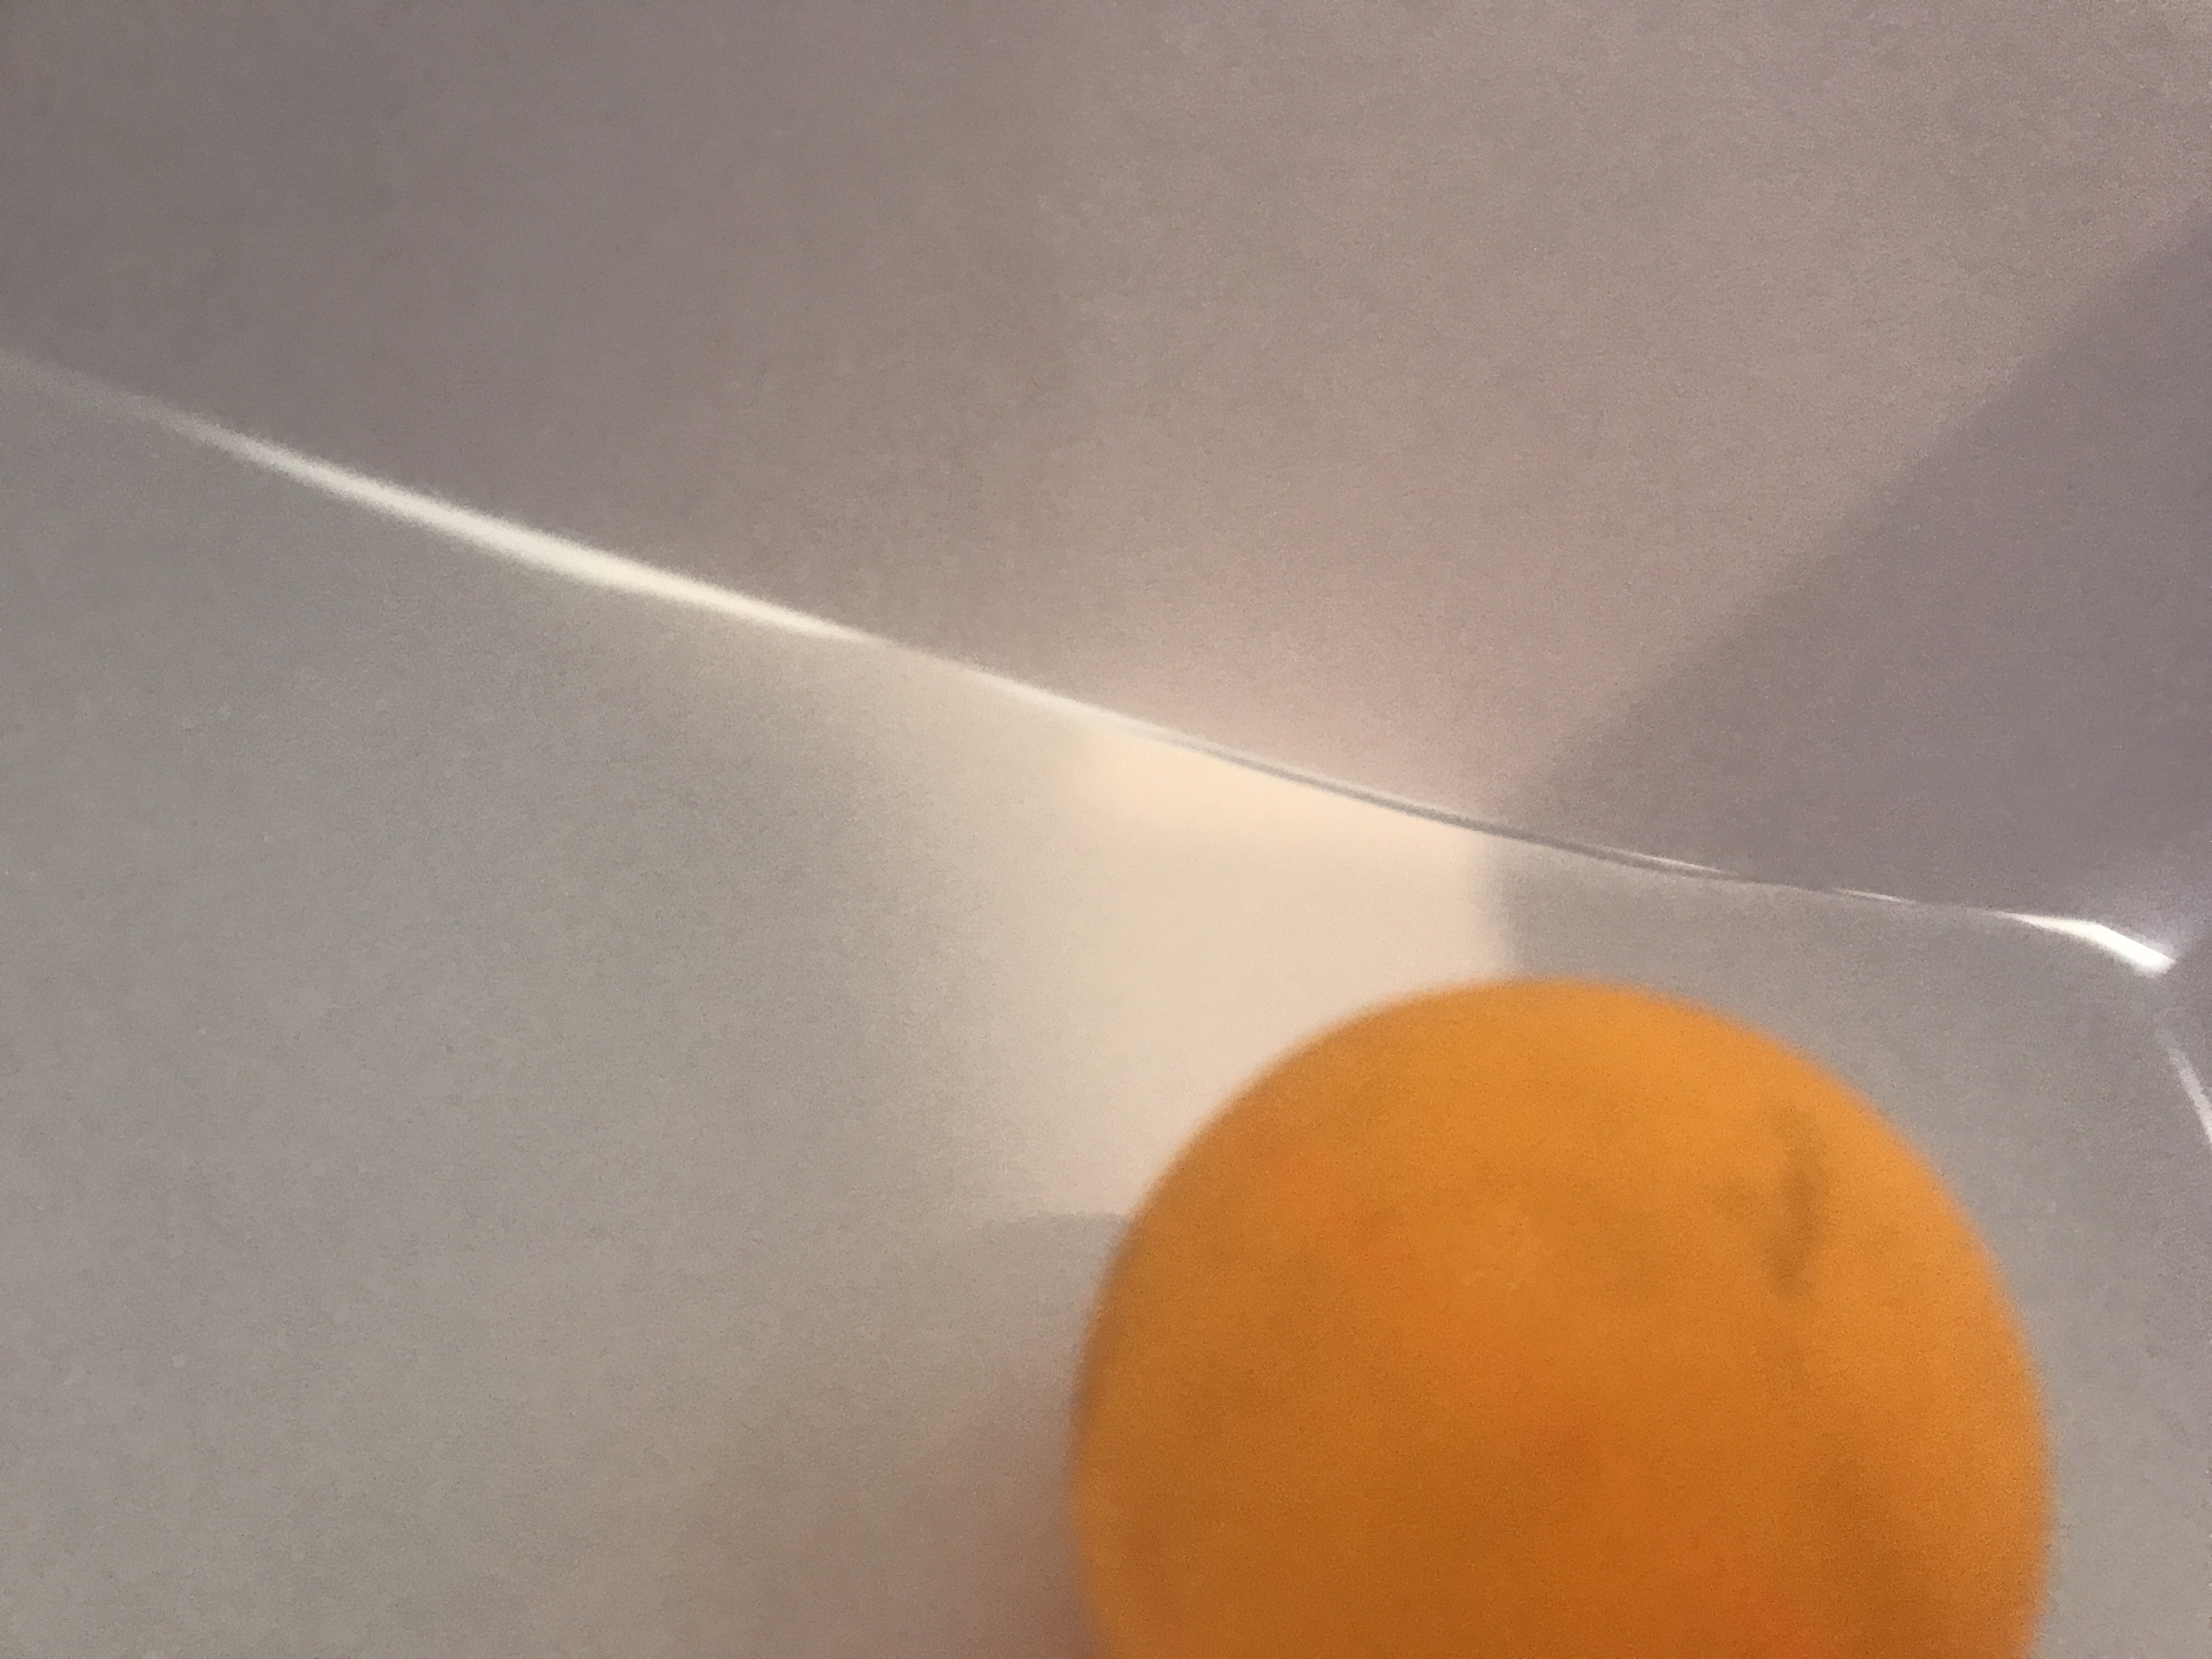pp: (1047, 986, 2088, 1659)
